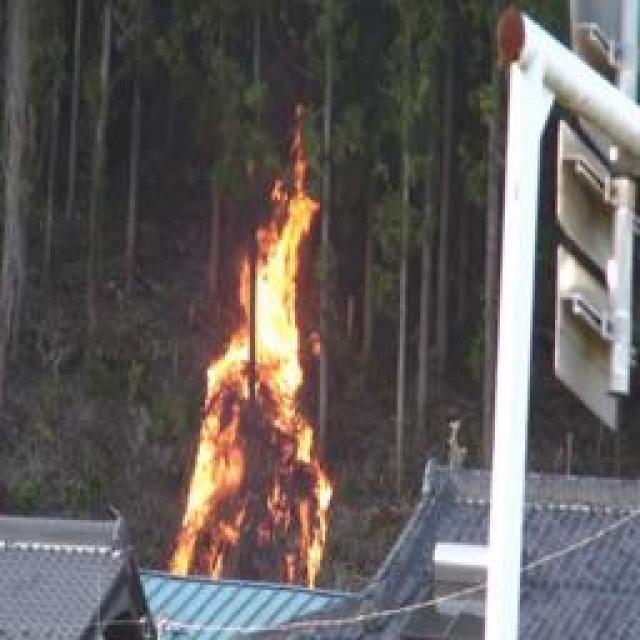Fire: (168, 125, 338, 589)
